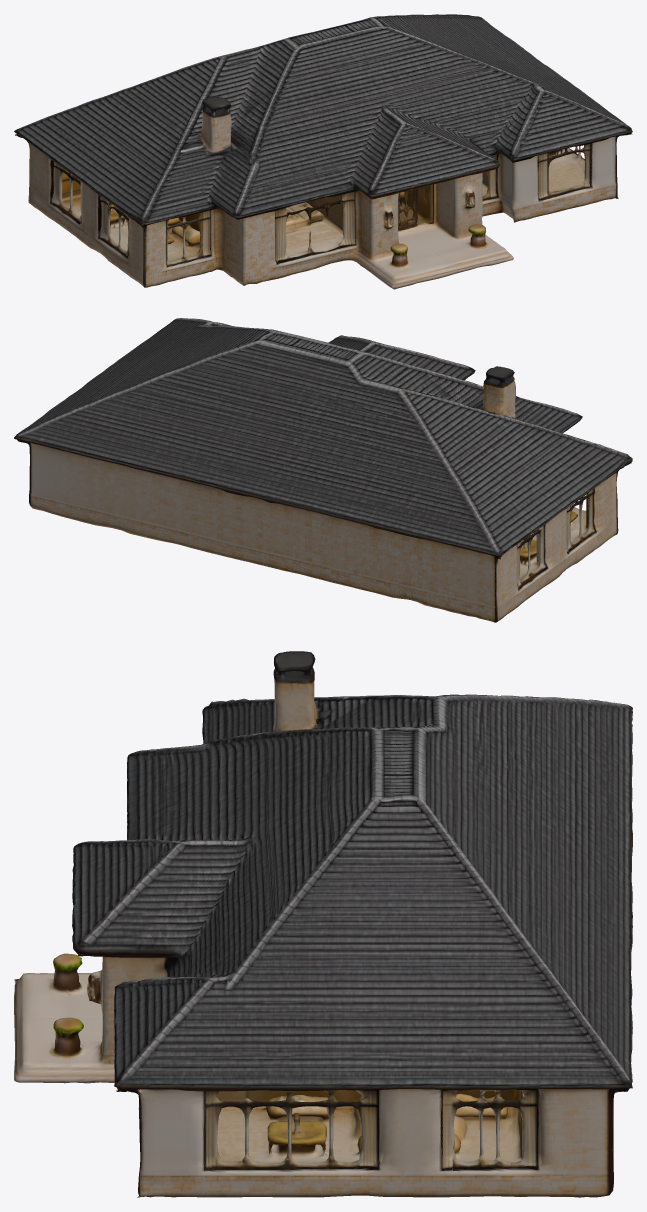
File: tripo_convert_7451289d-d437-4fb3-823c-129b99628612.fbx
The picture shows the model from 3 angles, top to bottom: view 1: azimuth 30°, elevation 25°; view 2: azimuth 150°, elevation 25°; view 3: azimuth 270°, elevation 25°; orthographic projection. The views are drawn at different scales.
Visible parts, largest first — view 1: tripo_node_7451289d; view 2: tripo_node_7451289d; view 3: tripo_node_7451289d.
Boxes of the visible parts, x1,y1,x2,y2 form: tripo_node_7451289d: (14,14,632,289); tripo_node_7451289d: (14,318,632,622); tripo_node_7451289d: (14,651,632,1197).
Bounding box in the file's own units: 97.89 × 67.24 × 32.27.
1 material, 1 textured.
